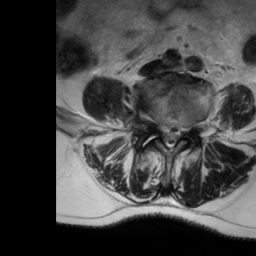CCS_normal: (166, 119, 173, 155)
LFS_stenosis: (181, 117, 191, 140)
LLS_stenosis: (173, 123, 181, 148)
RFS_severe_stenosis: (151, 110, 159, 133)
RLS_normal: (159, 118, 166, 147)
